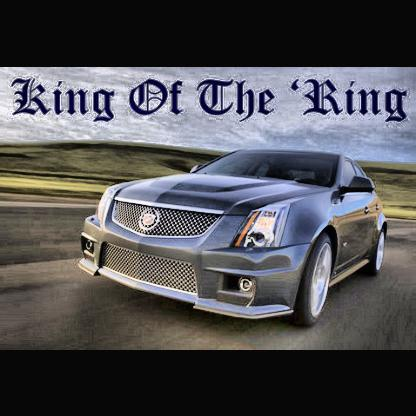Cadillac CTS-V Sedan 2012: (80, 148, 391, 328)
